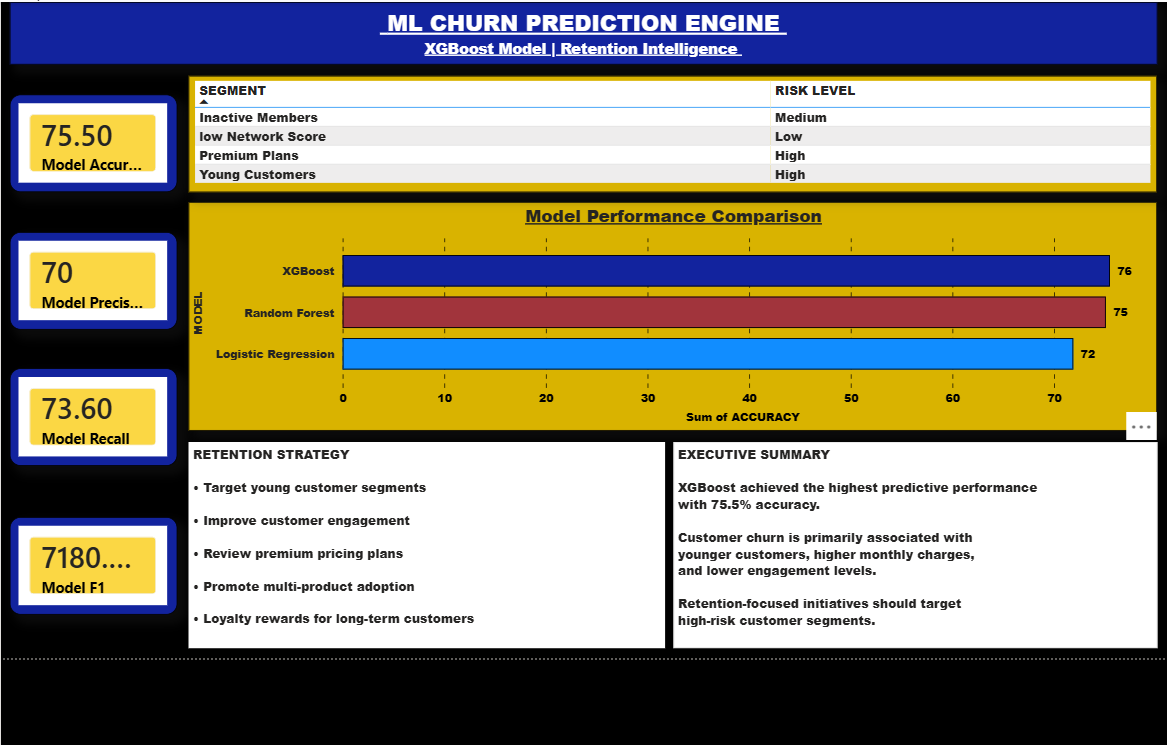

The dashboard page shown, as its layout file describes it:
{"tool":"powerbi","page":{"name":"Page 3","canvas":[1280,720],"ordinal":2},"visuals":[{"type":"textbox","box":[9.6,0,1259.7,68.6],"z":0},{"type":"cardVisual","fields":{"Data":["train.Model Accuracy"]},"box":[9.6,101.5,183.9,107],"z":1},{"type":"cardVisual","fields":{"Data":["train.Model Precision"]},"box":[9.6,252.5,183.9,107],"z":2},{"type":"cardVisual","fields":{"Data":["train.Model Recall"]},"box":[9.6,402.1,183.9,107],"z":3},{"type":"cardVisual","fields":{"Data":["train.Model F1"]},"box":[9.6,565.4,183.9,107],"z":4},{"type":"clusteredBarChart","title":"Model Performance Comparison","fields":{"Y":["Sum(Table.ACCURACY)"],"Category":["Table.MODEL"]},"box":[205.8,219.6,1063.5,251.1],"z":5},{"type":"tableEx","fields":{"Values":["RISK SEGMENT TABLE.SEGMENT","RISK SEGMENT TABLE.RISK LEVEL"]},"box":[205.8,81,1063.5,127.6],"z":6},{"type":"textbox","box":[205.8,483,522.8,226.4],"z":7},{"type":"textbox","box":[738.3,483,531,226.4],"z":8}]}

Visuals, with their boxes on the page's 1280x720 design canvas (x1, y1, x2, y2). These are canvas units, not pixel positions in the 1167x745 screenshot, which may show the page scaled, cropped or inside an application window:
textbox: bbox(10, 0, 1269, 69)
cardVisual - train.Model Accuracy: bbox(10, 102, 194, 208)
cardVisual - train.Model Precision: bbox(10, 252, 194, 360)
cardVisual - train.Model Recall: bbox(10, 402, 194, 509)
cardVisual - train.Model F1: bbox(10, 565, 194, 672)
"Model Performance Comparison" clusteredBarChart: bbox(206, 220, 1269, 471)
tableEx - RISK SEGMENT TABLE.SEGMENT x RISK SEGMENT TABLE.RISK LEVEL: bbox(206, 81, 1269, 209)
textbox: bbox(206, 483, 729, 709)
textbox: bbox(738, 483, 1269, 709)
